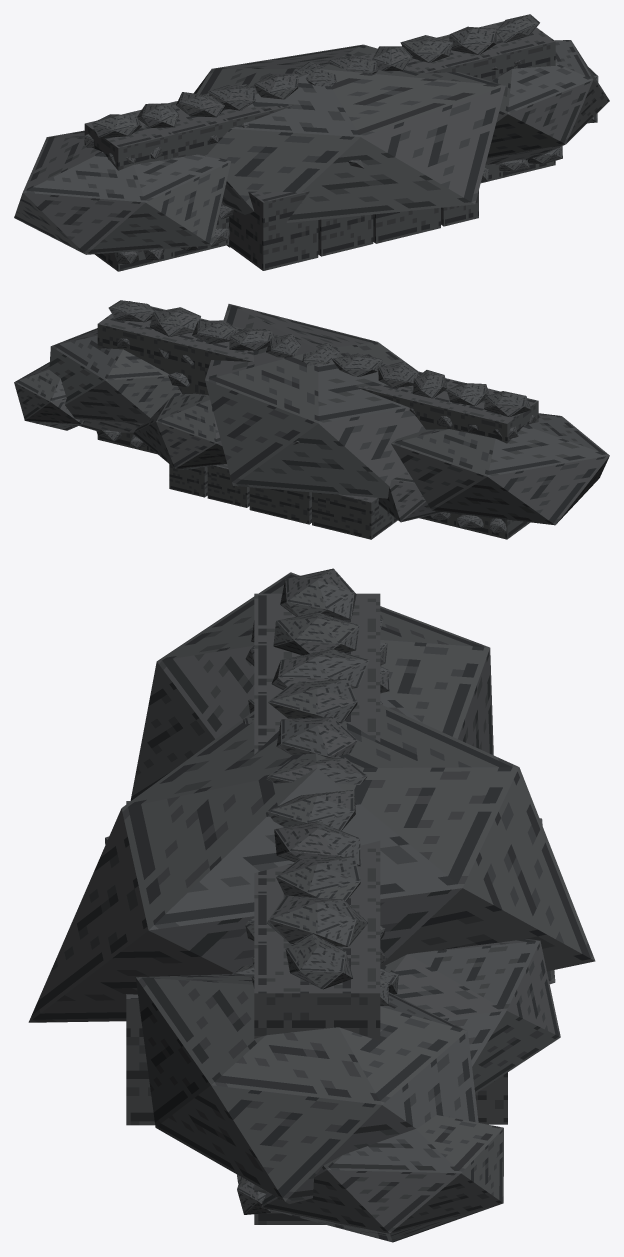
File: stones-basalt.glb
The picture shows the model from 3 angles, top to bottom: view 1: azimuth 30°, elevation 25°; view 2: azimuth 150°, elevation 25°; view 3: azimuth 270°, elevation 25°; orthographic projection. The views are drawn at different scales.
Visible parts, largest first — view 1: matacao@basalt, outcrop@basalt, retaining-wall@basalt, stone-steps@basalt; view 2: matacao@basalt, outcrop@basalt, retaining-wall@basalt, stone-steps@basalt; view 3: matacao@basalt, outcrop@basalt, retaining-wall@basalt, stone-steps@basalt.
Part boxes in pixels (box(x1,y1,x2,y2)): matacao@basalt: box(194, 44, 505, 222); outcrop@basalt: box(14, 40, 609, 254); retaining-wall@basalt: box(84, 14, 562, 271); stone-steps@basalt: box(227, 191, 478, 270); matacao@basalt: box(133, 304, 425, 498); outcrop@basalt: box(14, 328, 609, 525); retaining-wall@basalt: box(96, 300, 538, 539); stone-steps@basalt: box(169, 464, 397, 539); matacao@basalt: box(28, 704, 595, 1093); outcrop@basalt: box(105, 572, 555, 1242); retaining-wall@basalt: box(231, 568, 398, 1224); stone-steps@basalt: box(126, 801, 507, 1125).
Bounding box in the file's own units: 8.23 × 1.96 × 3.6.
Materials: 1 (1 with a texture image).
